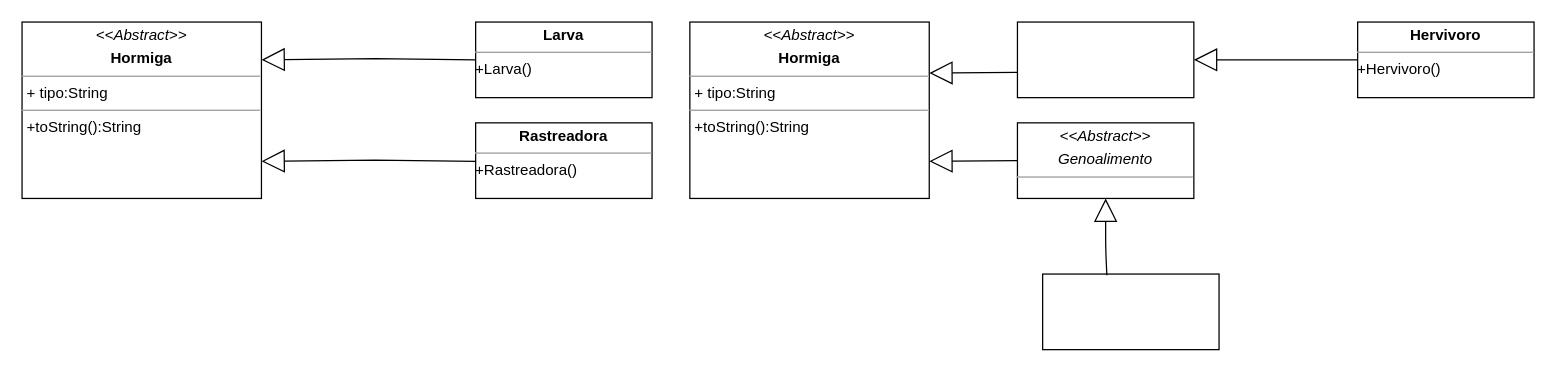
Image size: 1556x372. Some labels were removed from this diagram. Each missing label, with the centre of its shape:
<<Abstract >> IngestaNativa: the point at 1105,59
XX +XX: the point at 1130,311
